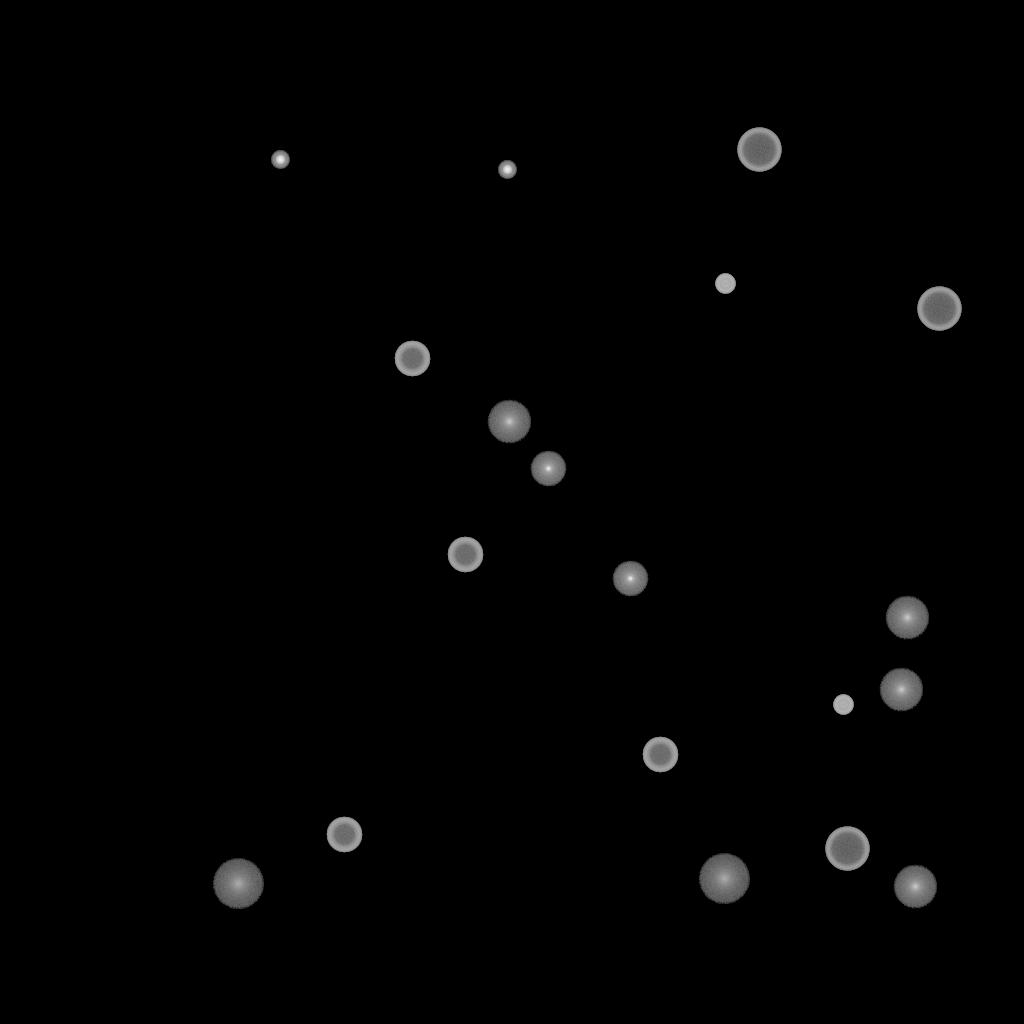depth:-20: (271, 151, 289, 169), (498, 161, 516, 179)
depth:-40: (715, 274, 735, 294), (833, 695, 853, 715)
depth:-60: (447, 537, 483, 573), (394, 341, 430, 377), (326, 817, 362, 853), (642, 737, 678, 773)
depth:-70: (825, 827, 869, 871), (737, 128, 781, 172), (917, 287, 961, 331)
depth:0: (530, 451, 566, 487), (612, 561, 648, 597)
depth:10: (487, 400, 531, 444), (893, 865, 937, 909), (879, 668, 923, 712), (885, 596, 929, 640)
depth:20: (212, 859, 264, 909), (698, 854, 750, 904)
